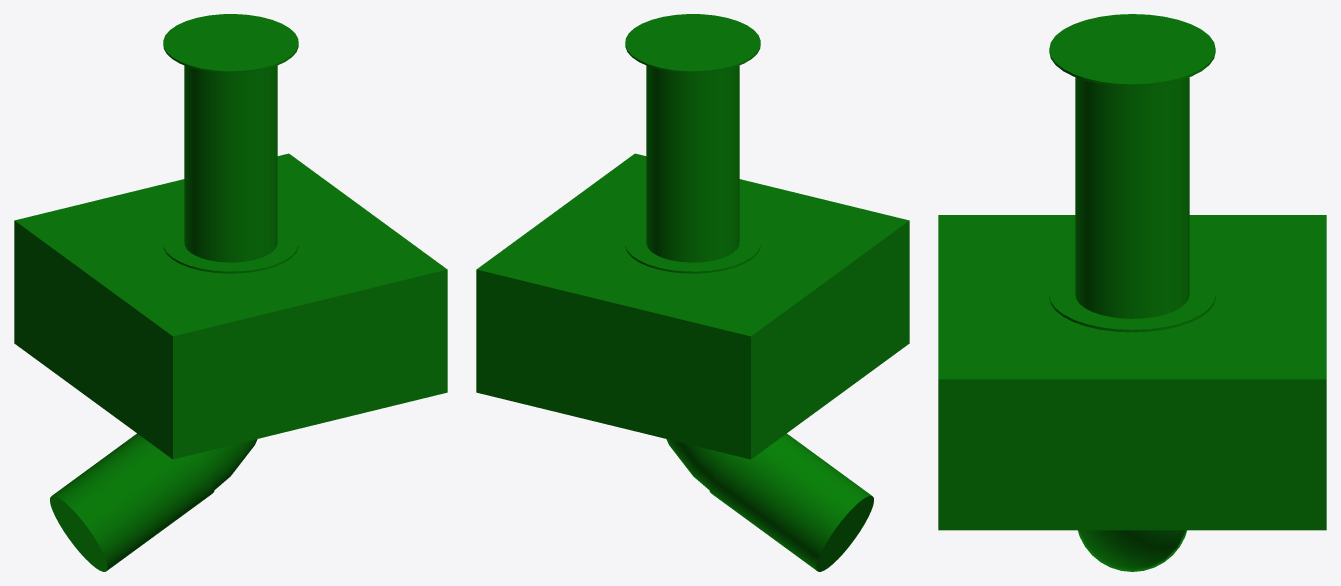
File: Image-1710907700843-2280725696608_77-GA54-EXT-DUCT-AIRC.fbx
3 views of the same model, side by side, from view 1: azimuth 30°, elevation 25°; view 2: azimuth 150°, elevation 25°; view 3: azimuth 270°, elevation 25° (orthographic). The views are drawn at different scales.
Visible parts, largest first — view 1: BOX 1 of EQUIPMENT /77-GA54-EXT-DUCT-AIRC, CYLINDER 4 of EQUIPMENT /77-GA54-EXT-DUCT-AIRC, CYLINDER 1 of EQUIPMENT /77-GA54-EXT-DUCT-AIRC, CYLINDER 5 of EQUIPMENT /77-GA54-EXT-DUCT-AIRC, CYLINDER 3 of EQUIPMENT /77-GA54-EXT-DUCT-AIRC, CTORUS 1 of EQUIPMENT /77-GA54-EXT-DUCT-AIRC; view 2: BOX 1 of EQUIPMENT /77-GA54-EXT-DUCT-AIRC, CYLINDER 4 of EQUIPMENT /77-GA54-EXT-DUCT-AIRC, CYLINDER 1 of EQUIPMENT /77-GA54-EXT-DUCT-AIRC, CYLINDER 5 of EQUIPMENT /77-GA54-EXT-DUCT-AIRC, CYLINDER 3 of EQUIPMENT /77-GA54-EXT-DUCT-AIRC, CTORUS 1 of EQUIPMENT /77-GA54-EXT-DUCT-AIRC; view 3: BOX 1 of EQUIPMENT /77-GA54-EXT-DUCT-AIRC, CYLINDER 4 of EQUIPMENT /77-GA54-EXT-DUCT-AIRC, CYLINDER 5 of EQUIPMENT /77-GA54-EXT-DUCT-AIRC, CYLINDER 3 of EQUIPMENT /77-GA54-EXT-DUCT-AIRC, CTORUS 1 of EQUIPMENT /77-GA54-EXT-DUCT-AIRC.
Part boxes in pixels (x1,y1,x2,y2): BOX 1 of EQUIPMENT /77-GA54-EXT-DUCT-AIRC: (14, 153, 447, 459); CYLINDER 4 of EQUIPMENT /77-GA54-EXT-DUCT-AIRC: (184, 65, 277, 262); CYLINDER 1 of EQUIPMENT /77-GA54-EXT-DUCT-AIRC: (50, 433, 214, 571); CYLINDER 5 of EQUIPMENT /77-GA54-EXT-DUCT-AIRC: (163, 14, 298, 73); CYLINDER 3 of EQUIPMENT /77-GA54-EXT-DUCT-AIRC: (163, 222, 298, 273); CTORUS 1 of EQUIPMENT /77-GA54-EXT-DUCT-AIRC: (198, 439, 257, 489); BOX 1 of EQUIPMENT /77-GA54-EXT-DUCT-AIRC: (476, 153, 909, 459); CYLINDER 4 of EQUIPMENT /77-GA54-EXT-DUCT-AIRC: (646, 65, 739, 262); CYLINDER 1 of EQUIPMENT /77-GA54-EXT-DUCT-AIRC: (709, 433, 873, 571); CYLINDER 5 of EQUIPMENT /77-GA54-EXT-DUCT-AIRC: (625, 14, 760, 73); CYLINDER 3 of EQUIPMENT /77-GA54-EXT-DUCT-AIRC: (625, 222, 760, 273); CTORUS 1 of EQUIPMENT /77-GA54-EXT-DUCT-AIRC: (666, 439, 725, 489); BOX 1 of EQUIPMENT /77-GA54-EXT-DUCT-AIRC: (938, 215, 1326, 530); CYLINDER 4 of EQUIPMENT /77-GA54-EXT-DUCT-AIRC: (1075, 77, 1189, 318); CYLINDER 5 of EQUIPMENT /77-GA54-EXT-DUCT-AIRC: (1049, 14, 1215, 86); CYLINDER 3 of EQUIPMENT /77-GA54-EXT-DUCT-AIRC: (1049, 269, 1215, 332); CTORUS 1 of EQUIPMENT /77-GA54-EXT-DUCT-AIRC: (1079, 530, 1185, 570).
Bounding box in the file's own units: 0.7818 × 0.7 × 1.2.
